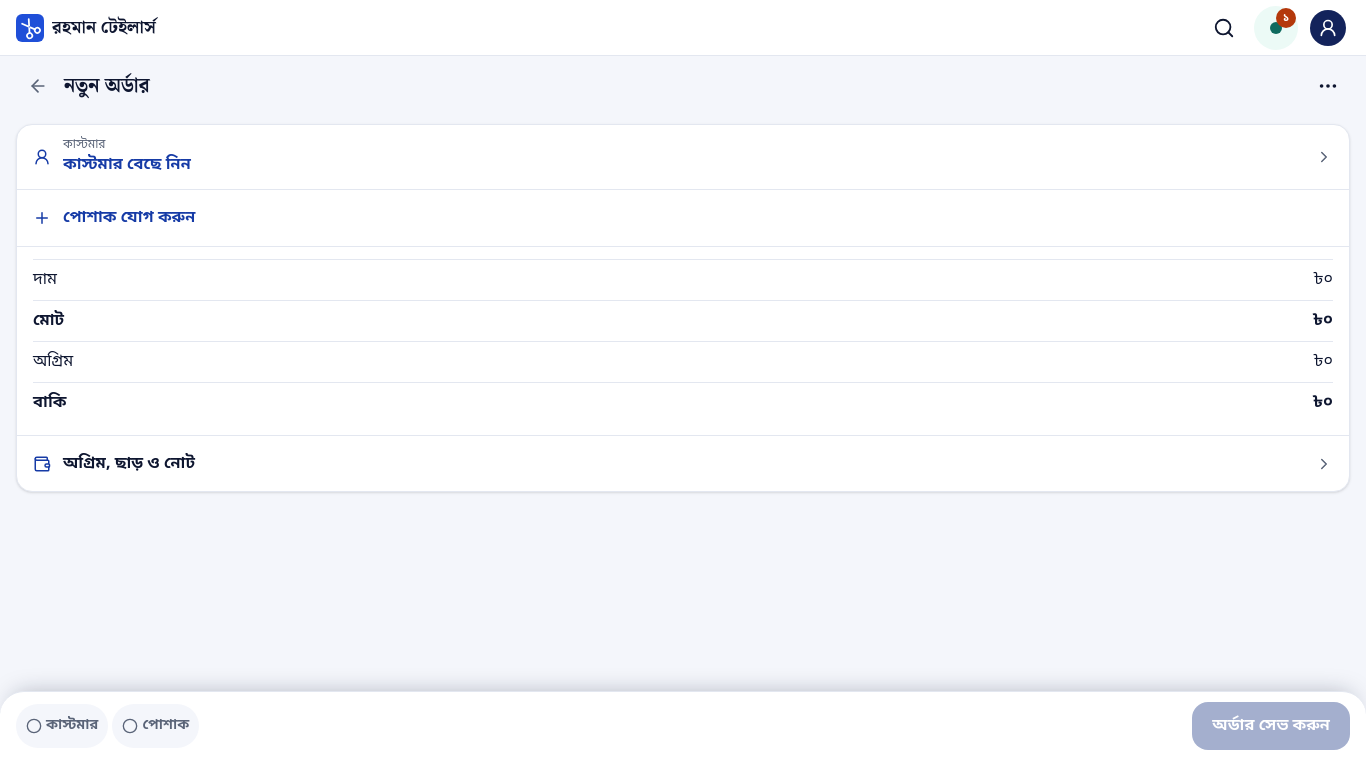
Order entry on a phone › finds customers by phone from the first digit typed
Click the button "কাস্টমার কাস্টমার বেছে নিন" at (84, 145), box [17, 125, 1349, 190]
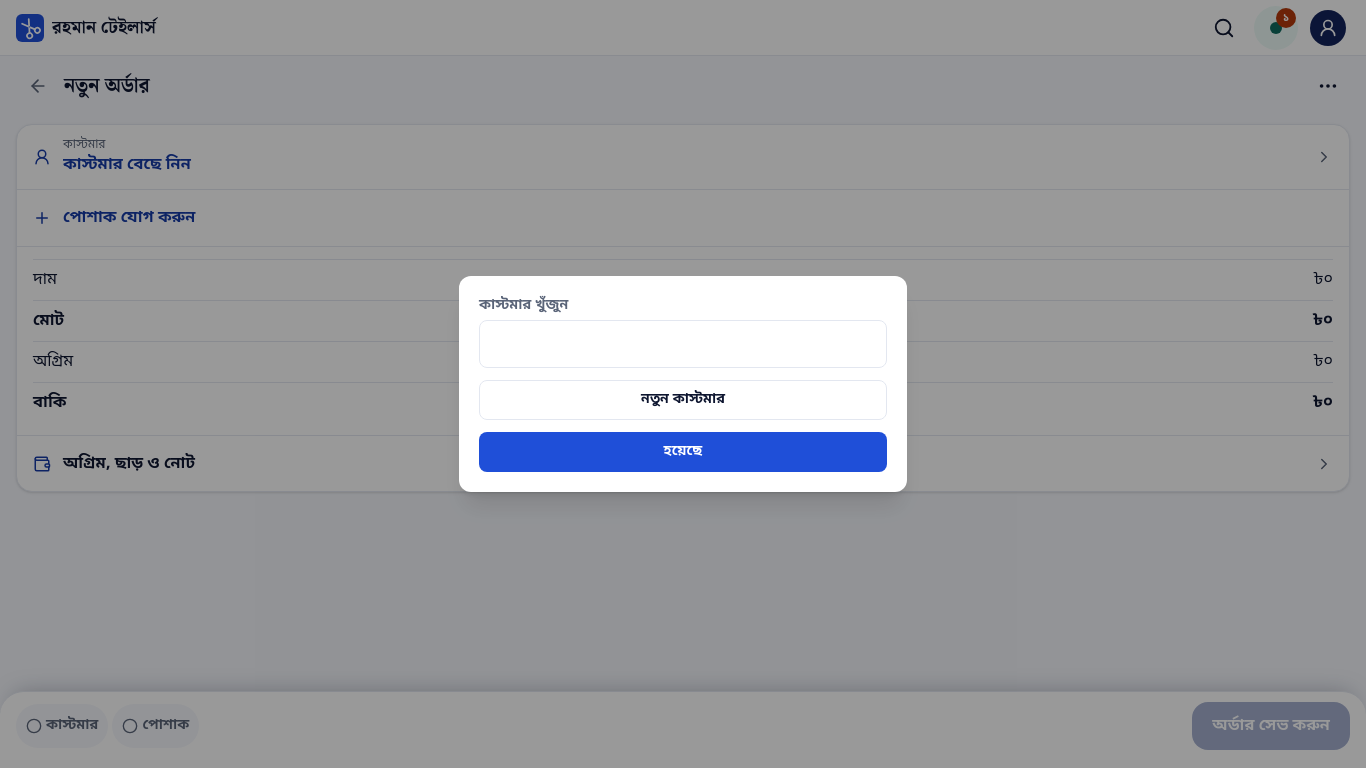
Type "০১" into the search field labelled "কাস্টমার খুঁজুন" at (683, 344), box [480, 324, 886, 364]
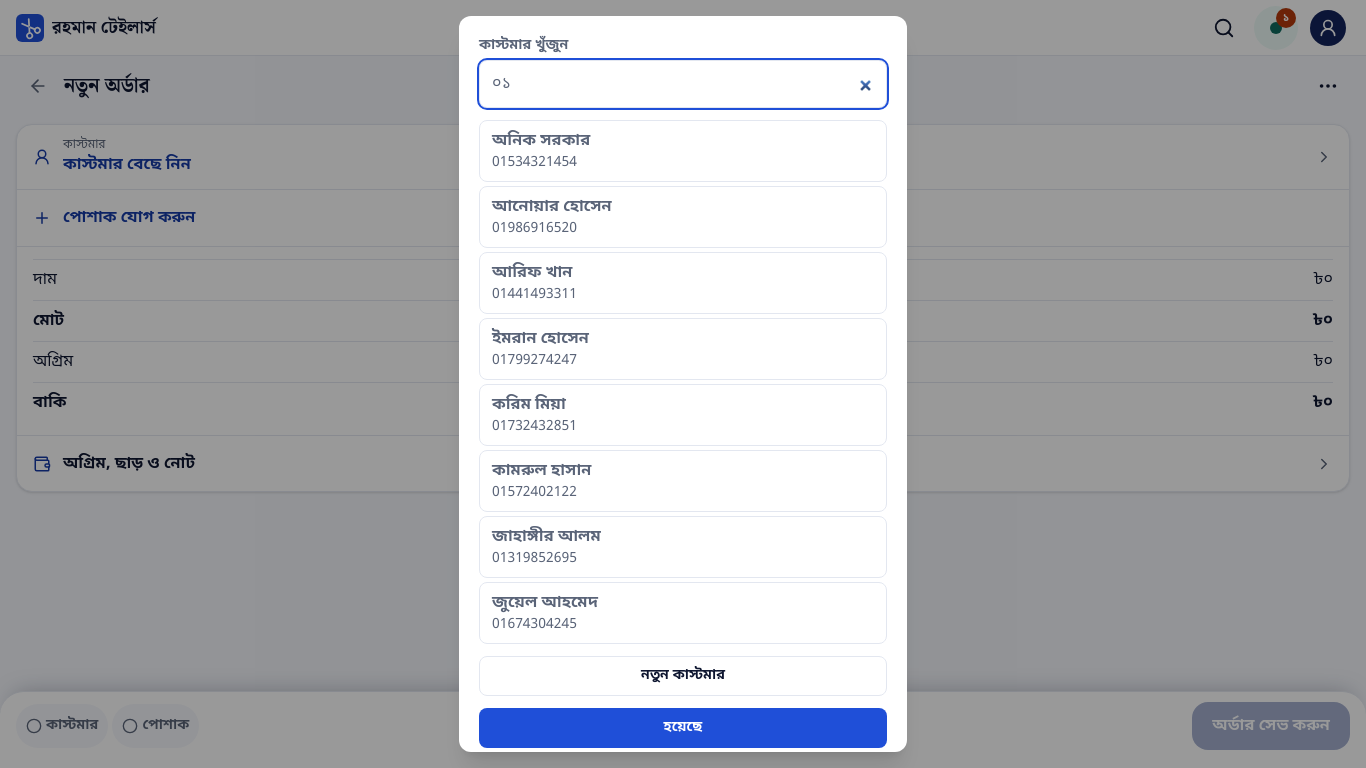
Result: the text "01534321454" is shown at [492, 153, 577, 173]
